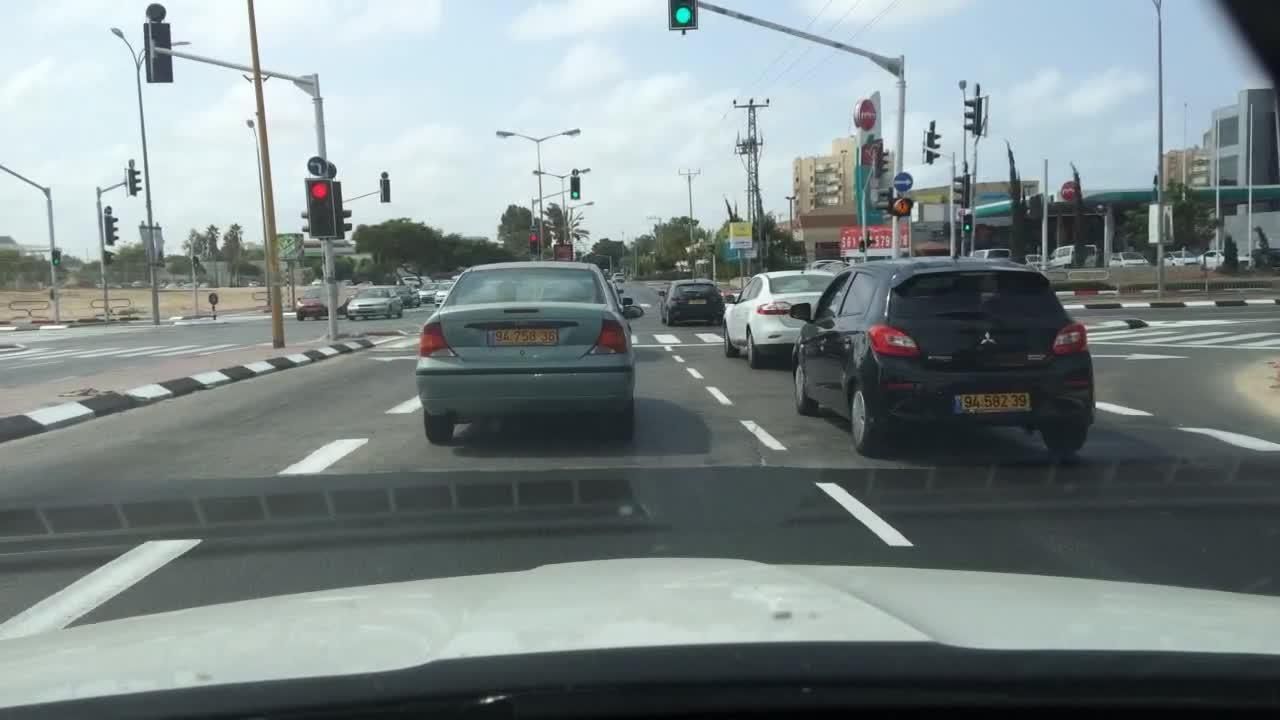Mitsubishi: (976, 326, 1000, 352)
